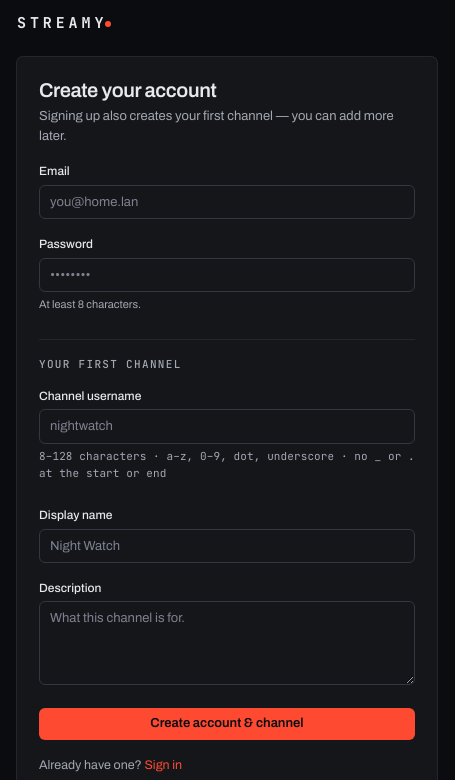
Test: SignUp screen › shows a zod error per DTO constraint on empty submit
Step 1. Click the button "Create account & channel" → {"x": 227, "y": 724}, box [39,708,415,740]
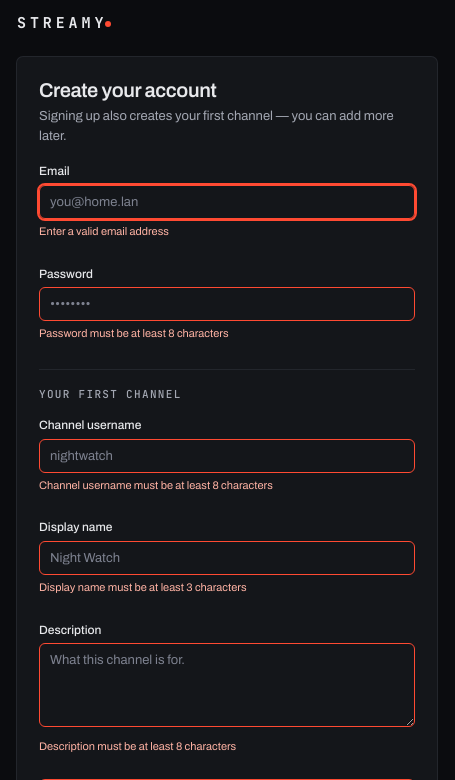
Expected: the text "Enter a valid email address" is shown, [39,225,169,237]
Expected: the text "Password must be at least 8 characters" is shown, [39,327,229,339]
Expected: the text "Channel username must be at least 8 characters" is shown, [39,479,273,491]
